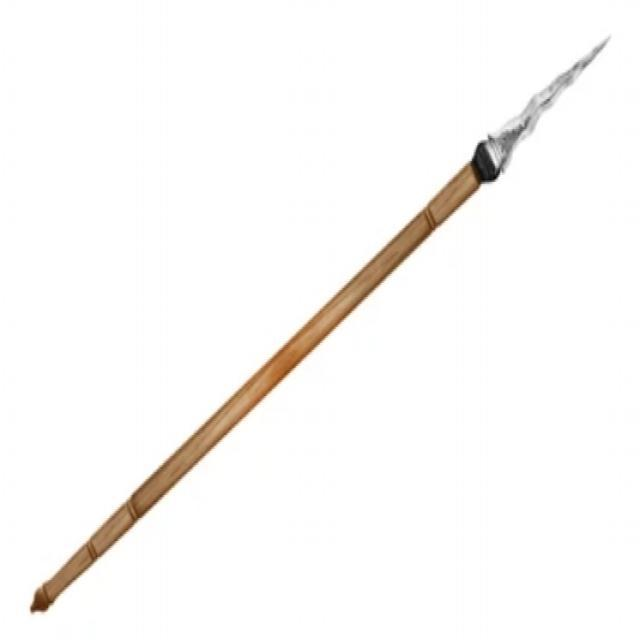spear: (25, 30, 626, 620)
